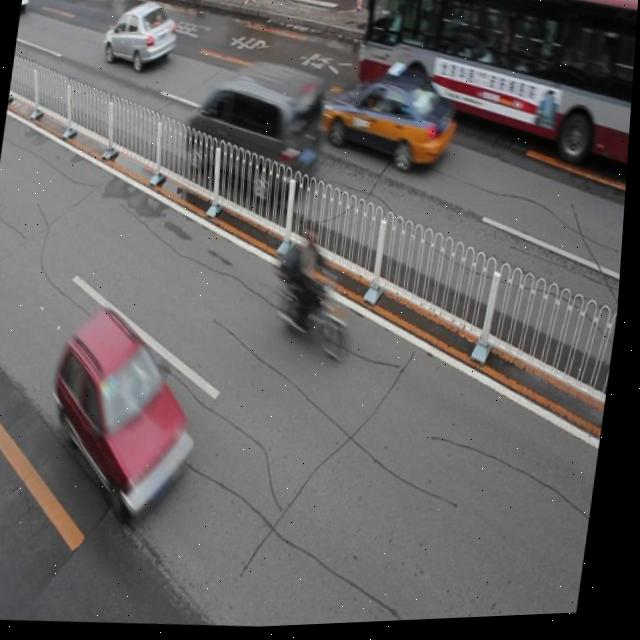car: (45, 304, 213, 523), (323, 65, 463, 179), (101, 0, 183, 73), (19, 0, 30, 17)
truck: (182, 56, 329, 205)
van: (348, 0, 640, 179)
